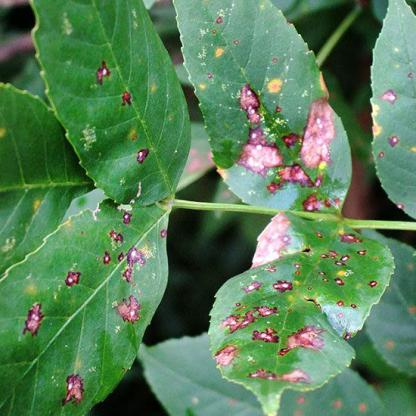apple rust leaf: (171, 2, 362, 224), (3, 203, 188, 415), (203, 219, 386, 415), (72, 32, 187, 206)
